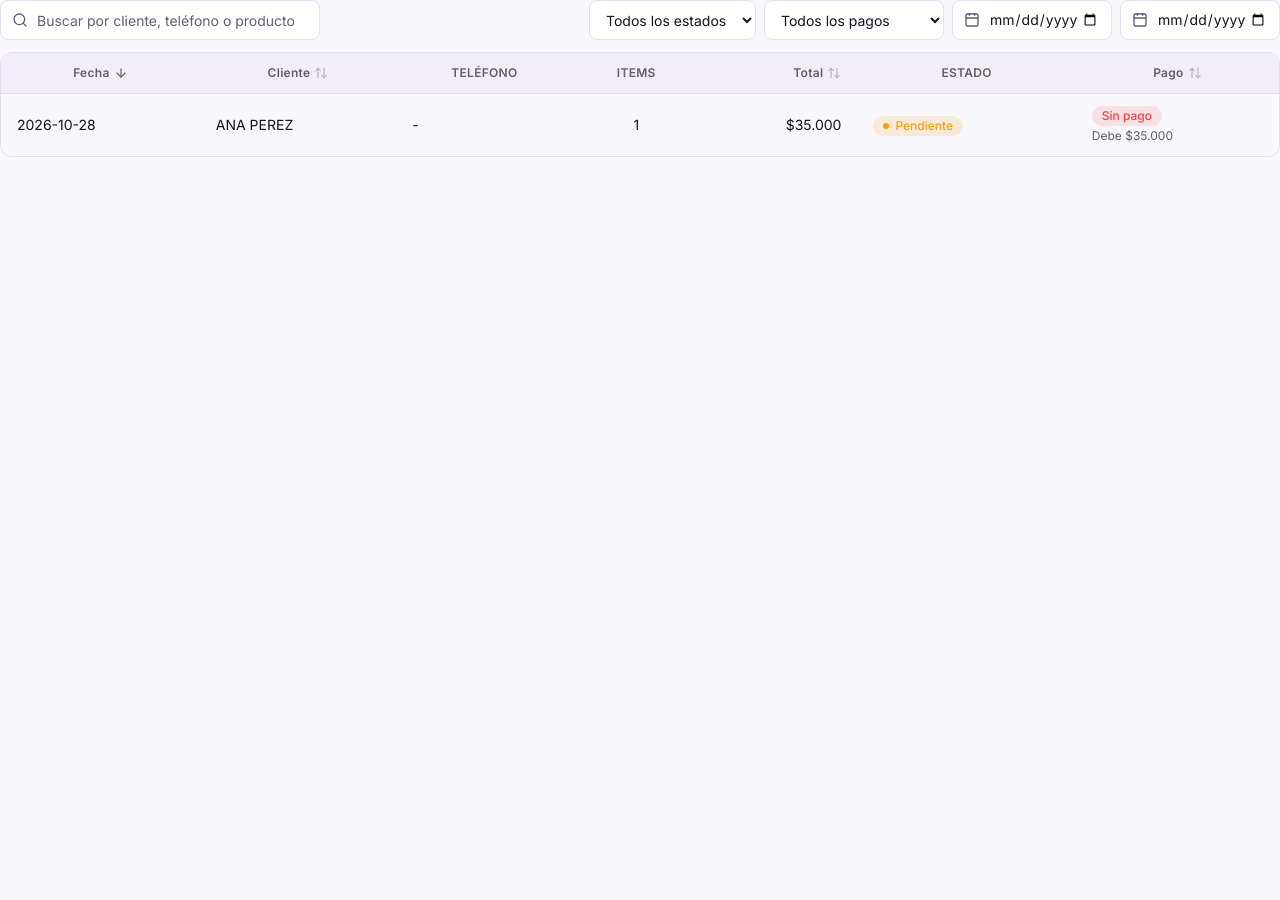
business tables › edits safe order fields from the order drawer and keeps the item line visible
The image size is (1280, 900).
Click the text "ANA PEREZ" at (255, 124), box left=200, top=94, right=396, bottom=156
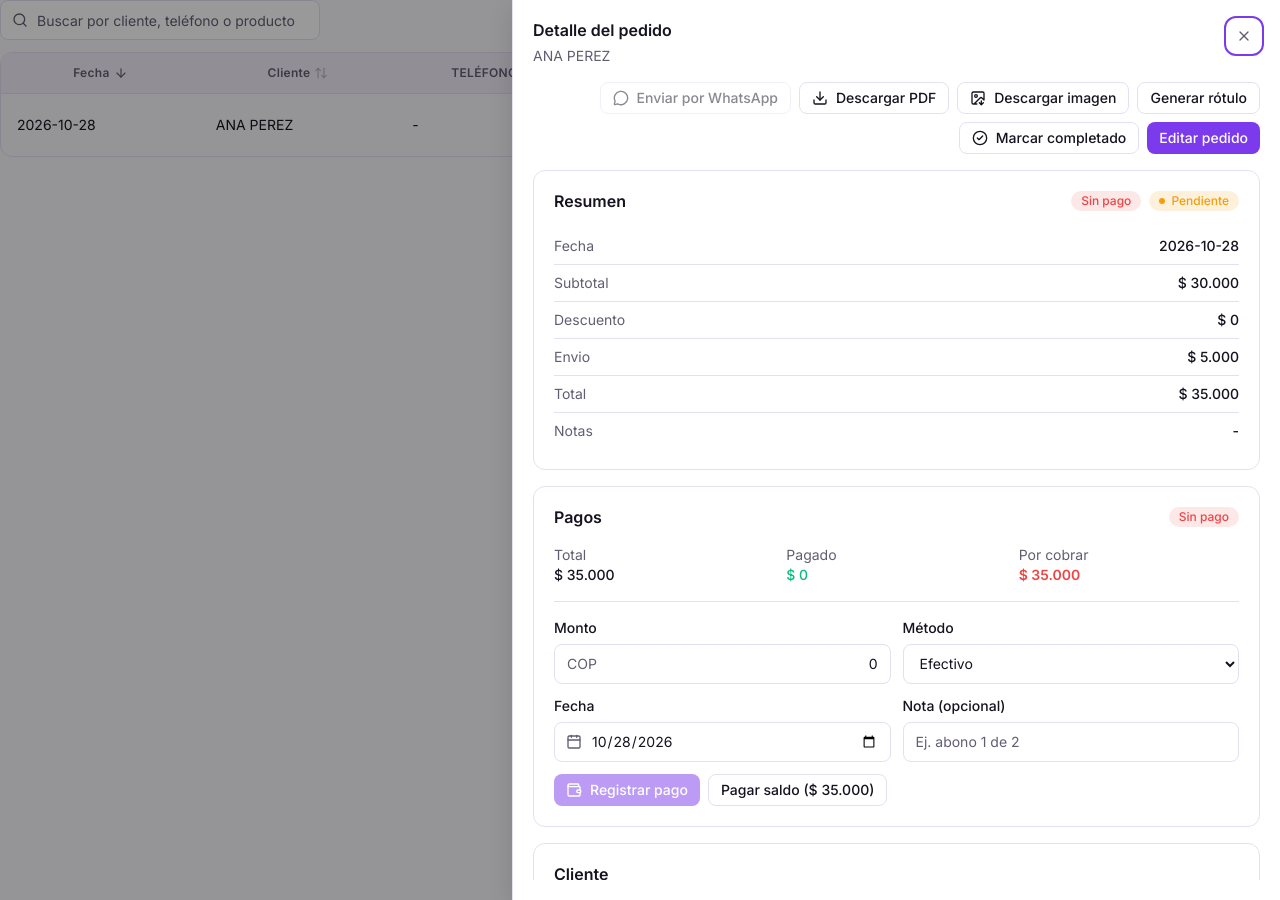
Click the button "Editar pedido" at (1204, 138), box left=1147, top=122, right=1260, bottom=154
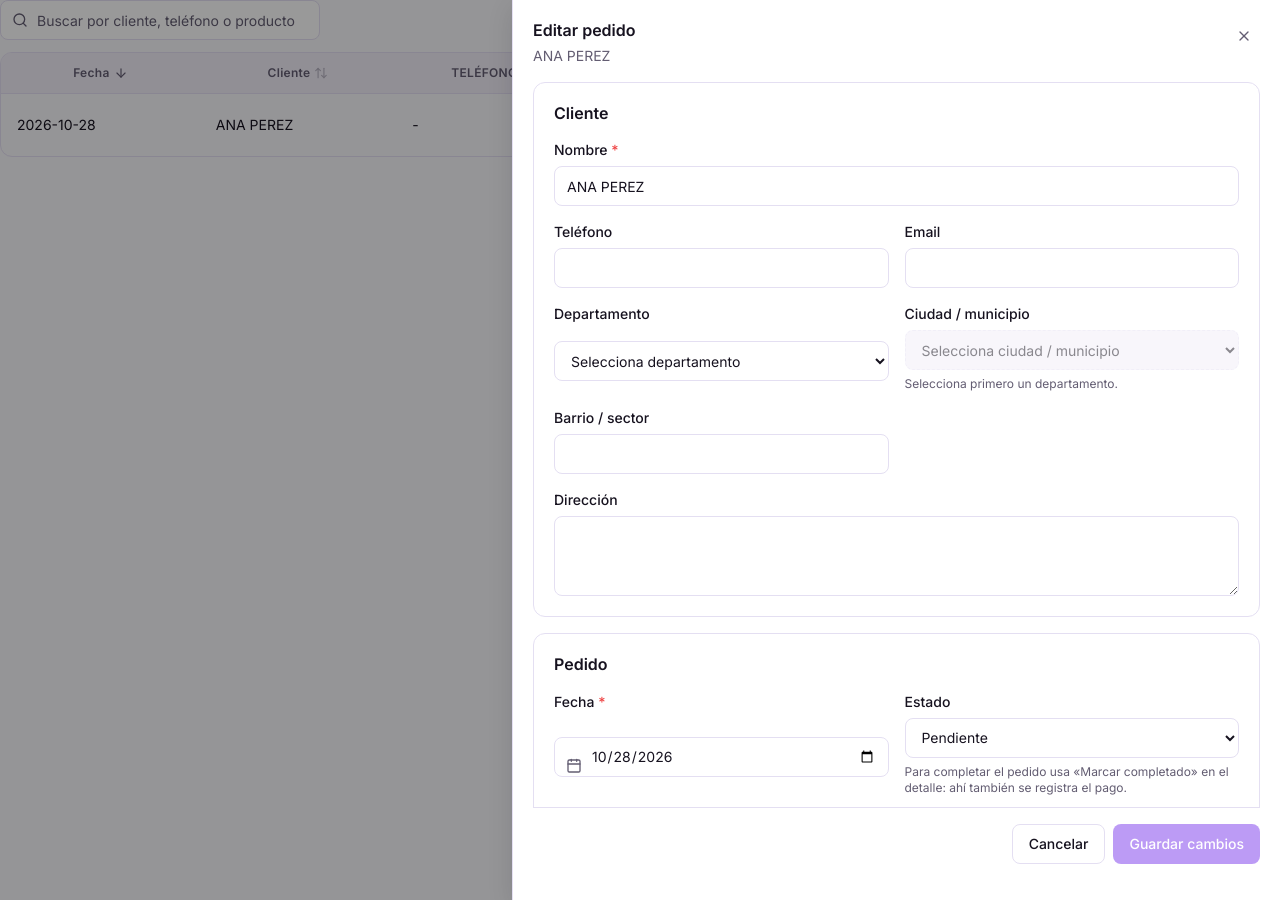
Replace the text in the field labelled "Nombre *" with "ana tienda" at (896, 186), box left=554, top=166, right=1239, bottom=206
(page scrolled)
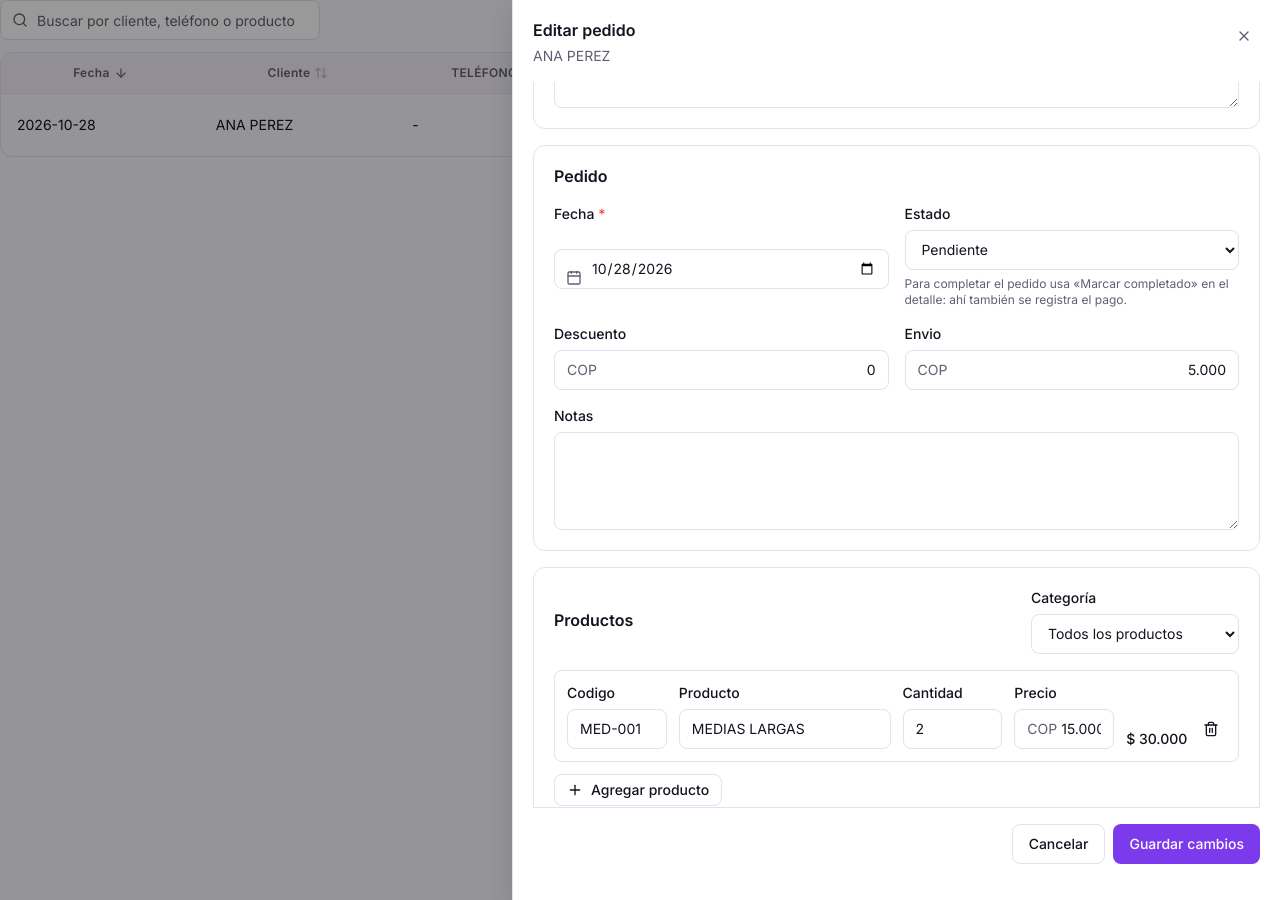
Type "entregar en porteria" into the text box labelled "Notas" at (896, 481), box left=554, top=432, right=1239, bottom=530
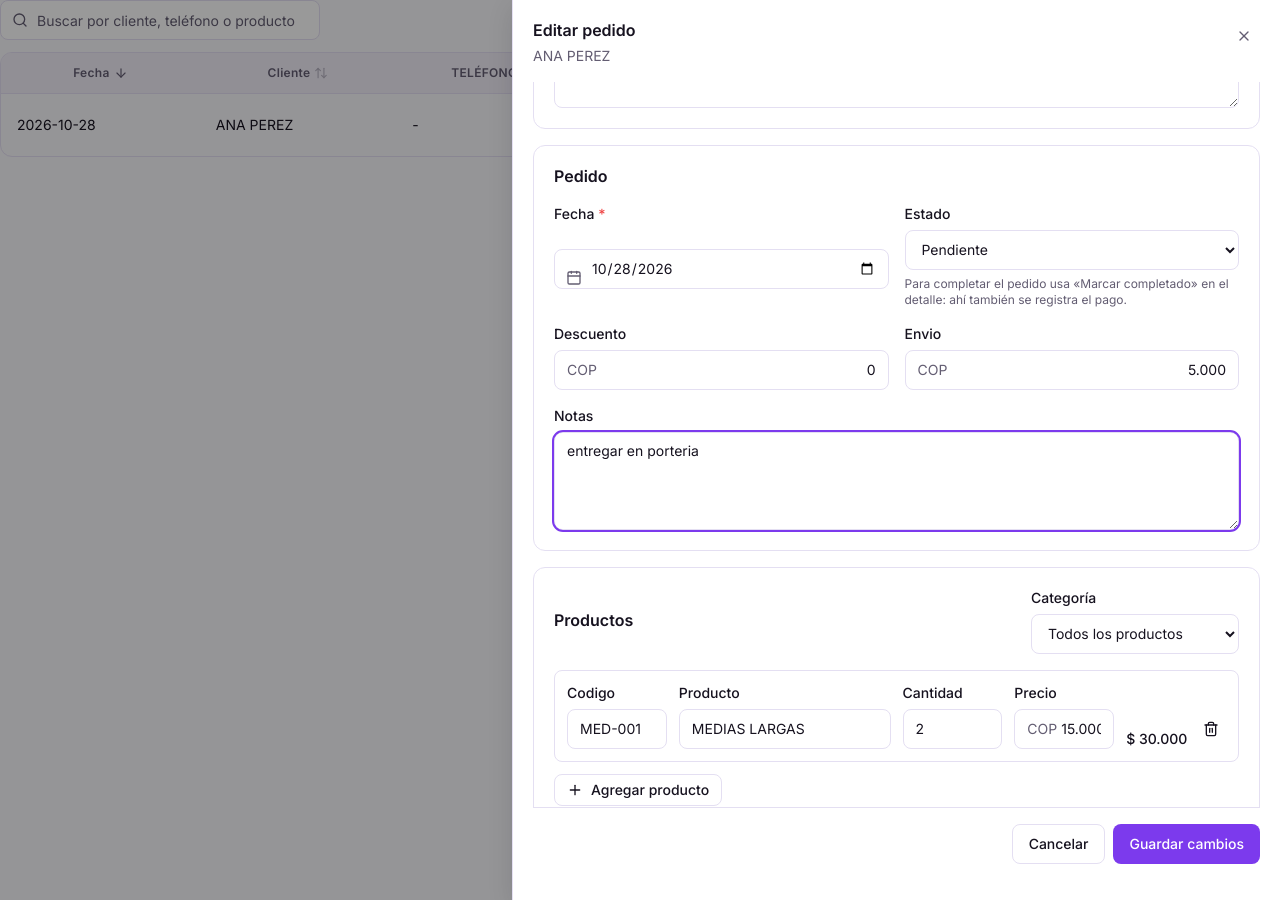
Click the button "Guardar cambios" at (1187, 844), box left=1114, top=824, right=1260, bottom=864
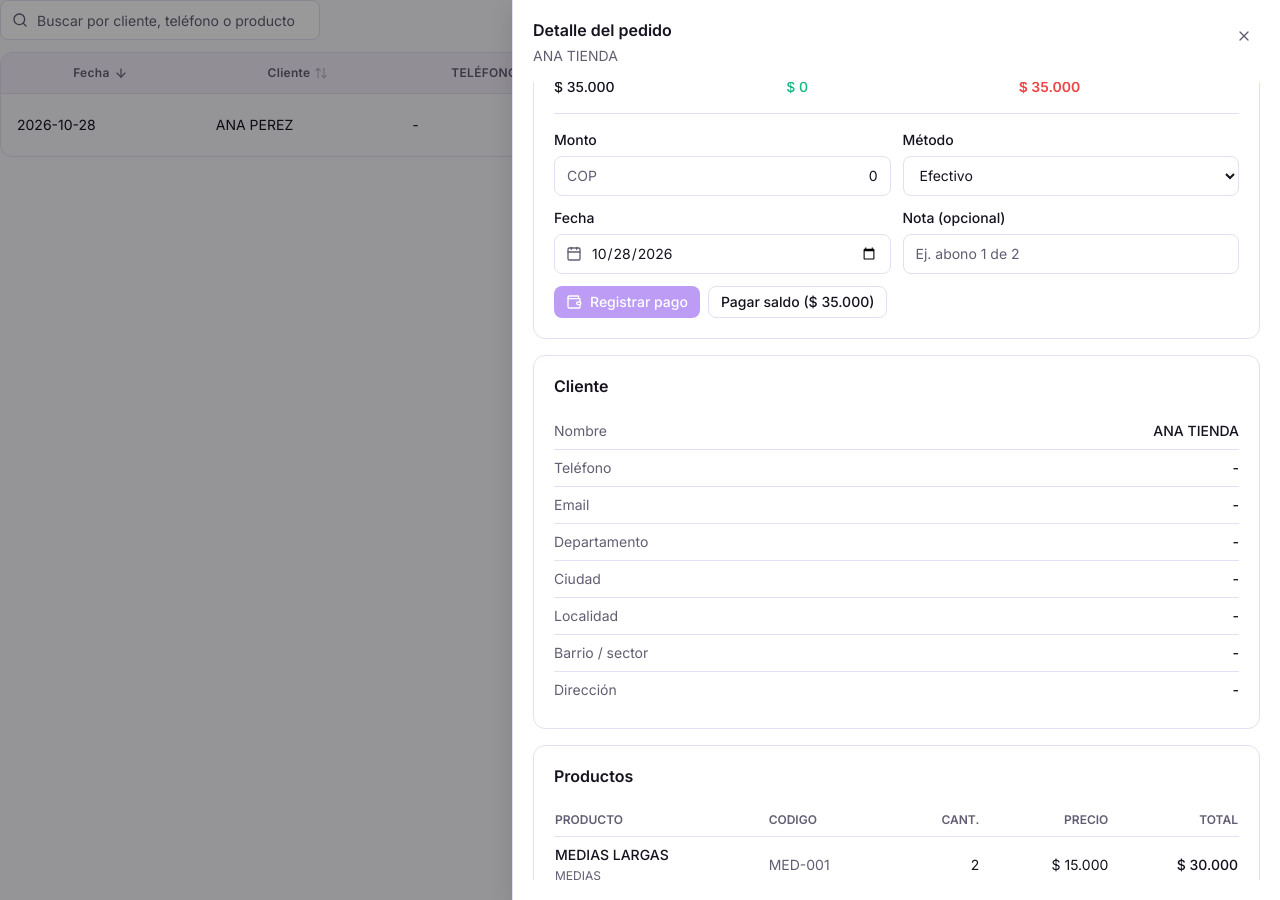
Result: the text "Pedido actualizado." is shown at left=925, top=848, right=1056, bottom=865
Result: the text "ANA TIENDA" below "Detalle del pedido" is shown at left=533, top=47, right=618, bottom=64
Result: the text "MEDIAS LARGAS" is shown at left=555, top=846, right=669, bottom=863
